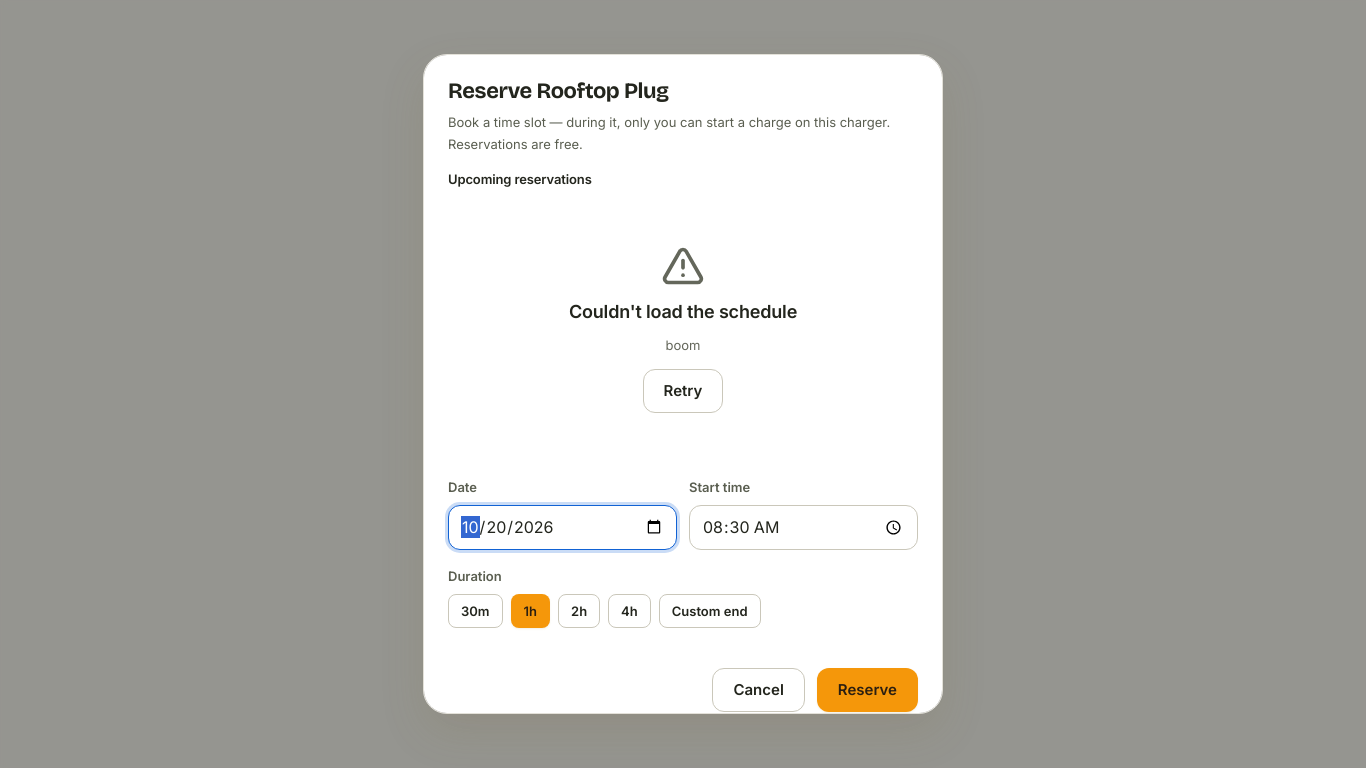
Test: ReserveModal — schedule › a schedule fetch failure shows an ErrorState with retry inside the modal
The width and height of the screenshot is (1366, 768).
Check: the heading "Couldn't load the schedule" is shown, box [569,300,797,323]
Check: the text "schedule is clear" is not shown
Step 1. Click the button "Retry" → click(683, 391), box [643,369,723,413]
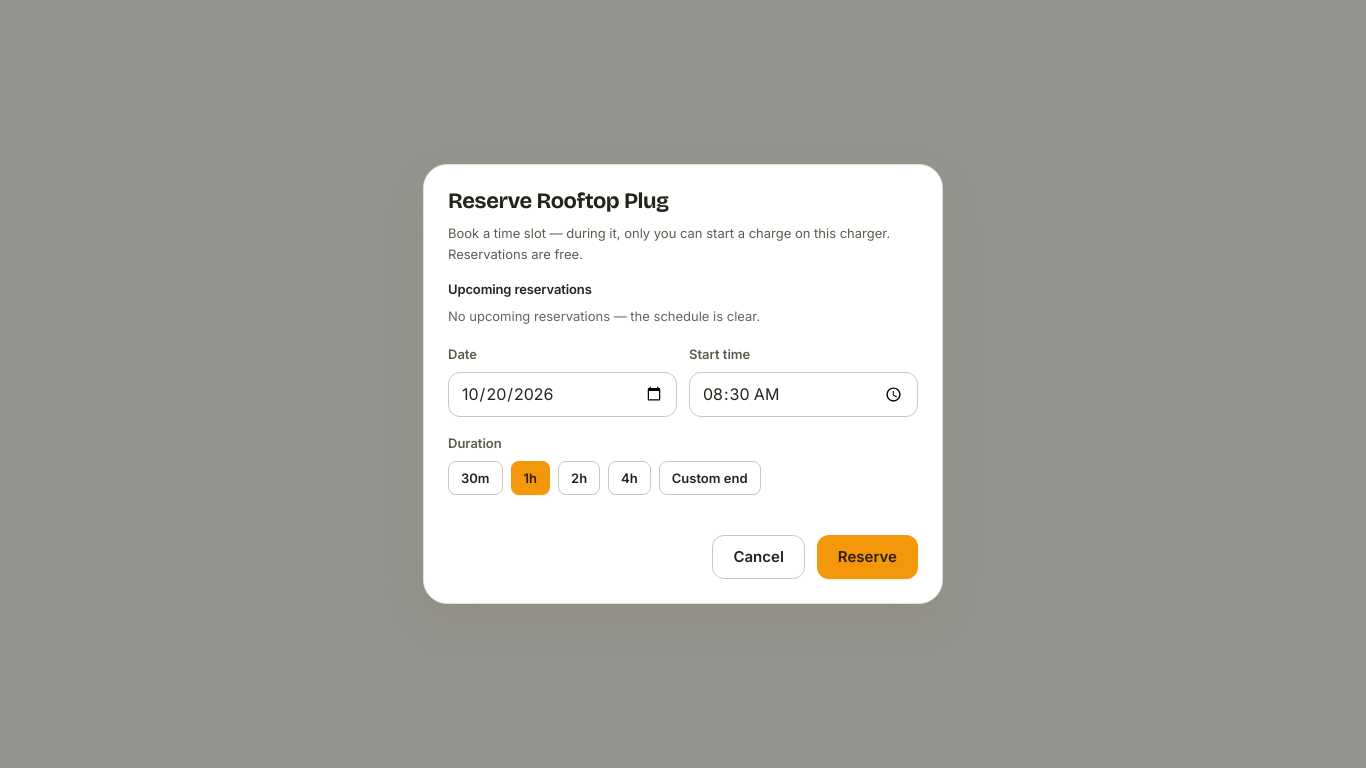
Check: the text "No upcoming reservations — the schedule is clear." is shown, box [448,308,760,324]
